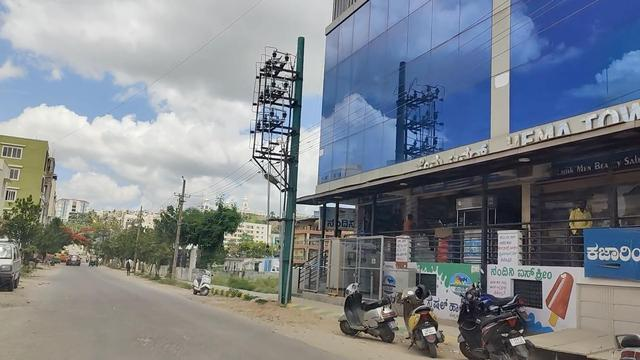RoadDamages: (132, 328, 228, 360)
